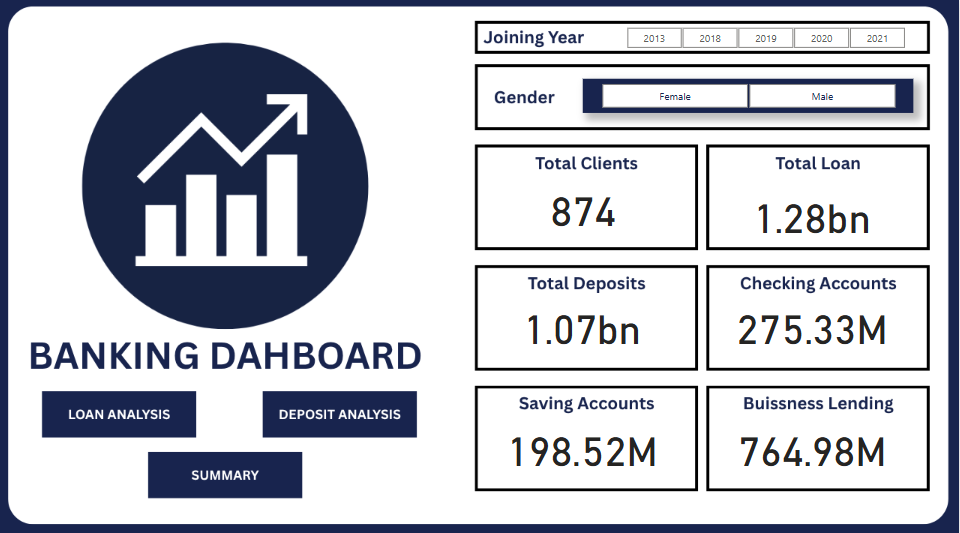

This screenshot's page, from the dashboard's own definition file:
{"tool":"powerbi","page":{"name":"Home Page","canvas":[1280,720],"ordinal":0},"visuals":[{"type":"card","fields":{"Values":["CountNonNull(Banking_Clients.Name)"]},"box":[669.6,253.9,218.2,65.9],"z":0},{"type":"slicer","fields":{"Values":["Banking_Clients.GenderId"]},"box":[778,105.7,440.5,45.3],"z":1000},{"type":"card","fields":{"Values":["Blank Query.Total Loan"]},"box":[963.3,251.1,241.5,65.9],"z":2000},{"type":"card","fields":{"Values":["Blank Query.Total Deposit"]},"box":[650.4,408.9,255.2,70],"z":3000},{"type":"slicer","fields":{"Values":["Banking_Clients.Year of Joining"]},"box":[812.4,30.2,419.9,37],"z":4000},{"type":"card","fields":{"Values":["Sum(Banking_Clients.Saving Accounts)"]},"box":[650.4,572.2,255.2,70],"z":5000},{"type":"card","fields":{"Values":["Sum(Banking_Clients.Checking Accounts)"]},"box":[956.4,407.5,255.2,70],"z":6000},{"type":"card","fields":{"Values":["Sum(Banking_Clients.Business Lending)"]},"box":[956.4,572.2,255.2,70],"z":7000},{"type":"actionButton","box":[57.6,520.1,204.5,64.5],"z":8000},{"type":"actionButton","box":[351.3,520.1,207.2,64.5],"z":9000},{"type":"actionButton","box":[199.1,602.7,207.3,63.6],"z":10000}]}

Visuals, with their boxes in screenshot pixels (x1, y1, x2, y2), scaled from the page's 1280x720 canvas onto the 960x533 screenshot:
card - CountNonNull(Banking_Clients.Name): l=502, t=188, r=666, b=237
slicer - Banking_Clients.GenderId: l=584, t=78, r=914, b=112
card - Blank Query.Total Loan: l=722, t=186, r=904, b=235
card - Blank Query.Total Deposit: l=488, t=303, r=679, b=355
slicer - Banking_Clients.Year of Joining: l=609, t=22, r=924, b=50
card - Sum(Banking_Clients.Saving Accounts): l=488, t=424, r=679, b=475
card - Sum(Banking_Clients.Checking Accounts): l=717, t=302, r=909, b=353
card - Sum(Banking_Clients.Business Lending): l=717, t=424, r=909, b=475
actionButton: l=43, t=385, r=197, b=433
actionButton: l=263, t=385, r=419, b=433
actionButton: l=149, t=446, r=305, b=493
